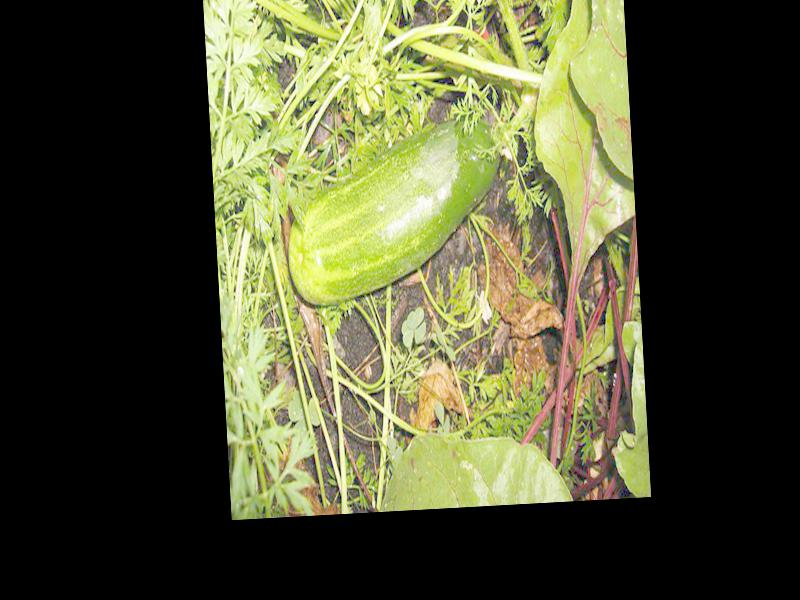Cucumber: (284, 108, 507, 308)
